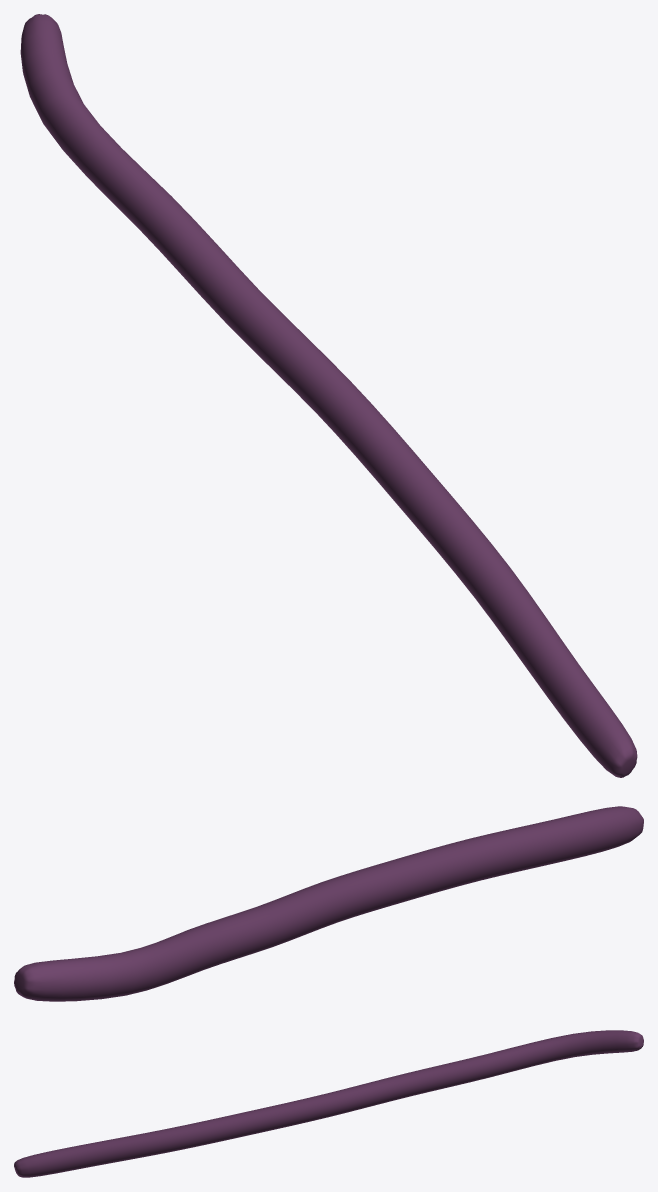
The model's file is frame_11.obj.
The picture shows the model from 3 angles, top to bottom: view 1: azimuth 30°, elevation 25°; view 2: azimuth 150°, elevation 25°; view 3: azimuth 270°, elevation 25°; orthographic projection. The views are drawn at different scales.
Visible parts, largest first — view 1: worm2; view 2: worm2; view 3: worm2.
Boxes of the visible parts, bbox=[...] form: worm2: bbox=[20, 14, 637, 777]; worm2: bbox=[14, 806, 643, 1001]; worm2: bbox=[14, 1030, 643, 1177].
Bounding box in the file's own units: 118 × 455 × 1712.
